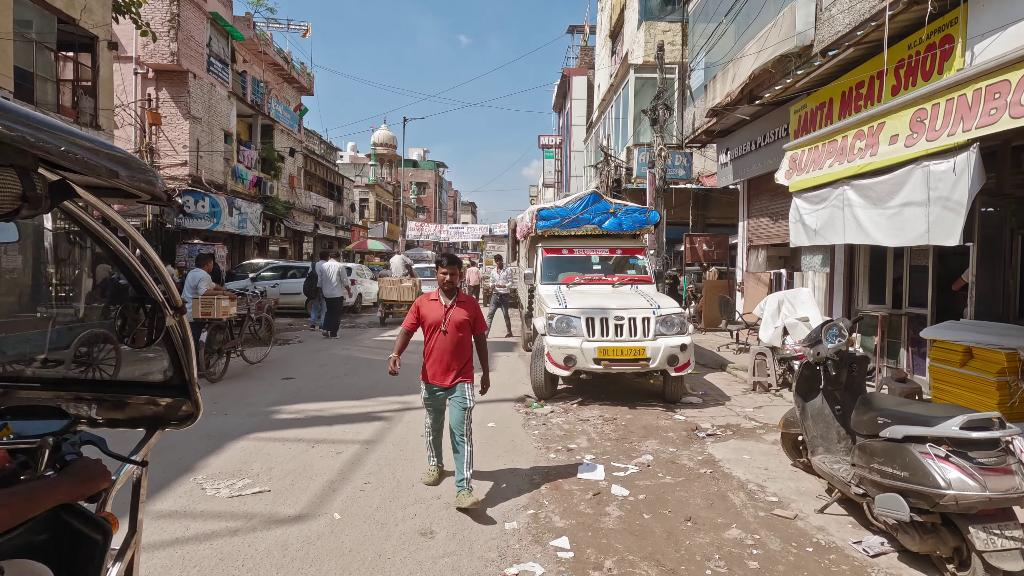garbage: (576, 461, 609, 480), (503, 561, 542, 576), (553, 535, 569, 549)
